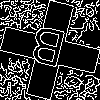B: (25, 25, 69, 77)
